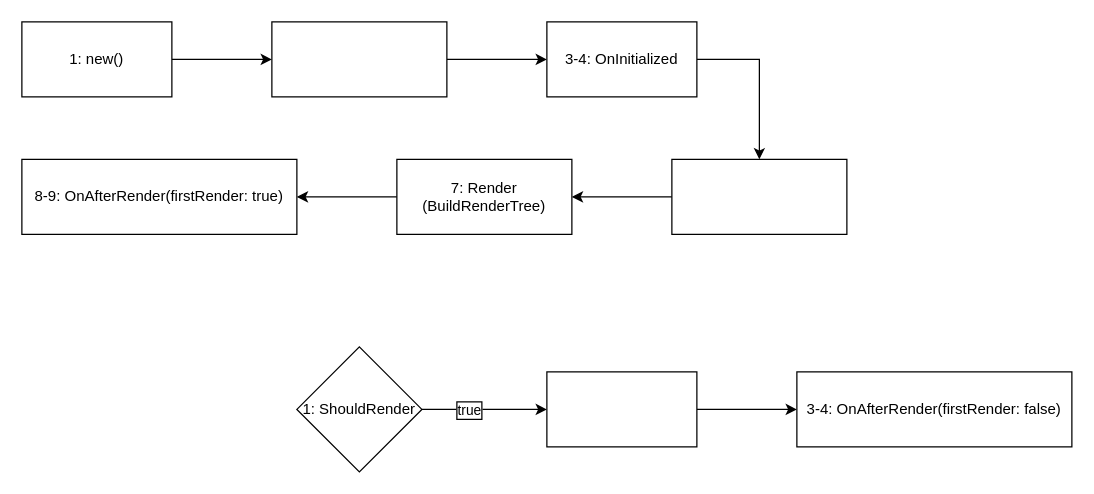
Some shapes in this 1094 by 494 pixel diagram are drawn without their labels. Each missing label, with the centre of its shape:
"2: Render (BuildRenderTree)" goes at point (621, 409).
"2: SetParametersAsync" goes at point (359, 59).
"5-6: OnParametersSet" goes at point (759, 196).
